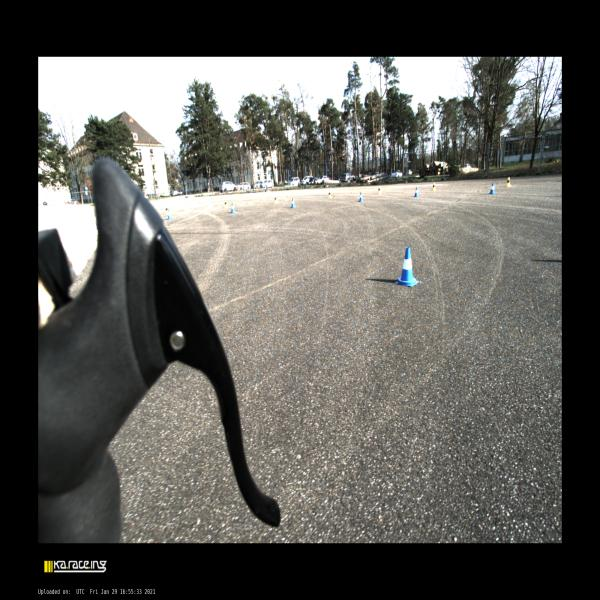blue_cone: (395, 247, 419, 287), (167, 209, 173, 220), (230, 202, 236, 213), (290, 197, 296, 208), (489, 183, 495, 194), (358, 192, 364, 202), (414, 187, 419, 197)
yellow_cone: (506, 177, 512, 187), (224, 198, 228, 208), (432, 182, 436, 191), (274, 195, 278, 204), (377, 186, 381, 194), (328, 190, 332, 198), (165, 206, 168, 214)
